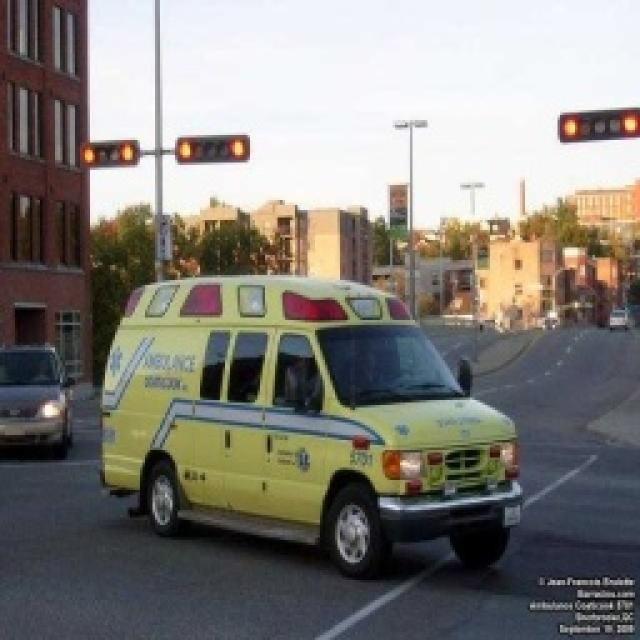emergency-vehicle: (77, 257, 640, 627)
